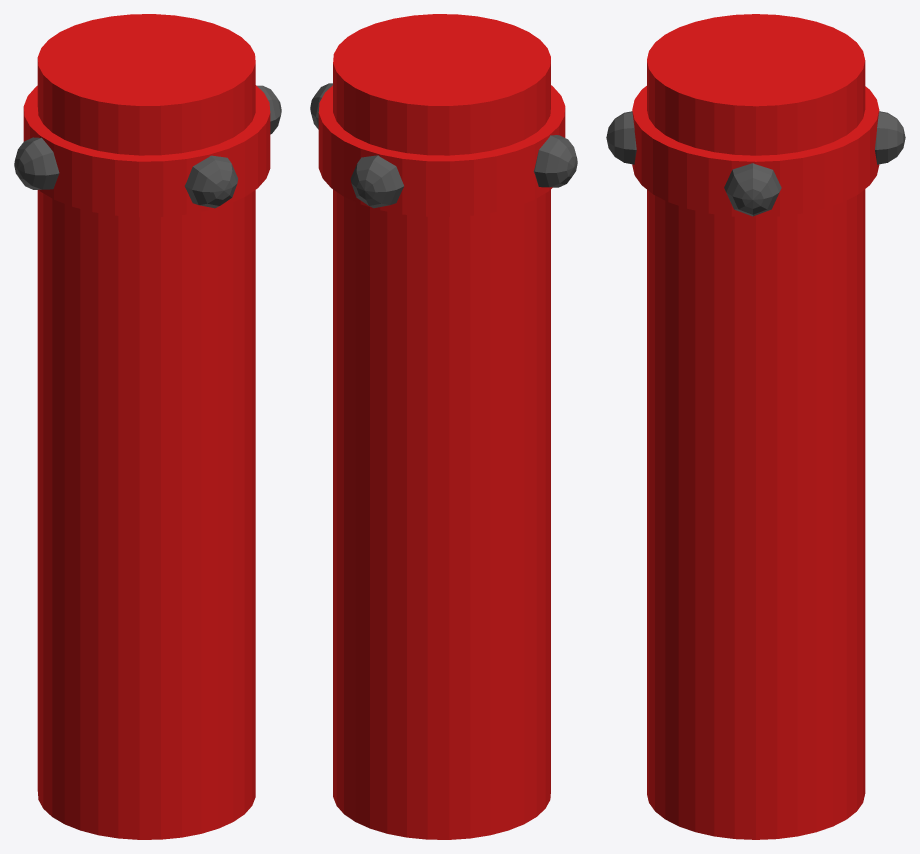
File: Pipe alt.fbx
The picture shows the model from 3 angles, left to right: view 1: azimuth 30°, elevation 25°; view 2: azimuth 150°, elevation 25°; view 3: azimuth 270°, elevation 25°; orthographic projection.
Visible parts, largest first — view 1: Pipe straight.001; view 2: Pipe straight.001; view 3: Pipe straight.001.
Part boxes in pixels (left/top/right/bottom): Pipe straight.001: left=14, top=14, right=281, bottom=839; Pipe straight.001: left=310, top=14, right=577, bottom=839; Pipe straight.001: left=606, top=14, right=905, bottom=839.
Size of the model in its own units: 25.59 by 68.92 by 25.48.
